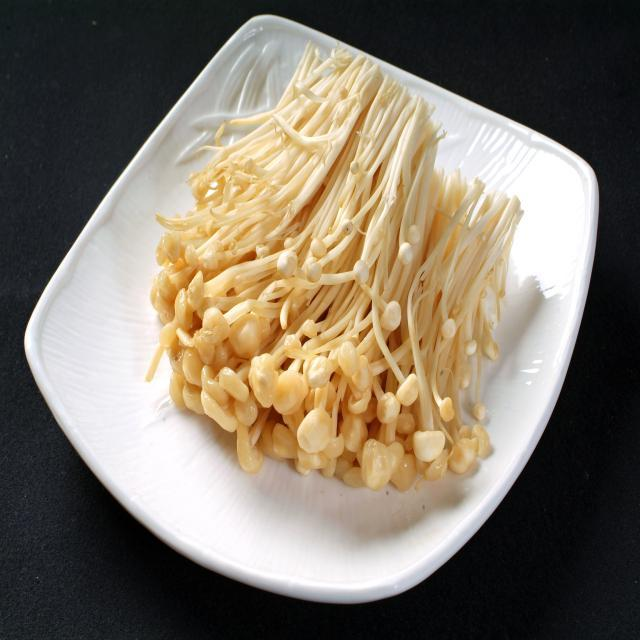Flammulina velutiper: (147, 44, 521, 484)
